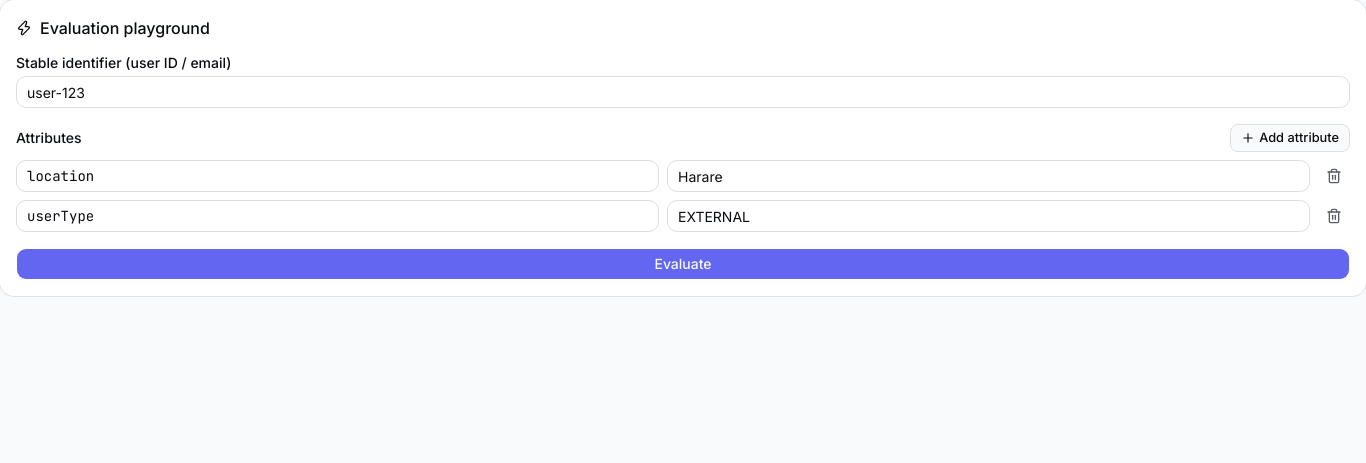
Test: EvaluationPlayground › shows the unmatched targeting rule when a rule excludes the user
Step 1. Click the button "Evaluate" → coordinates (683, 264), box [16,248,1350,280]
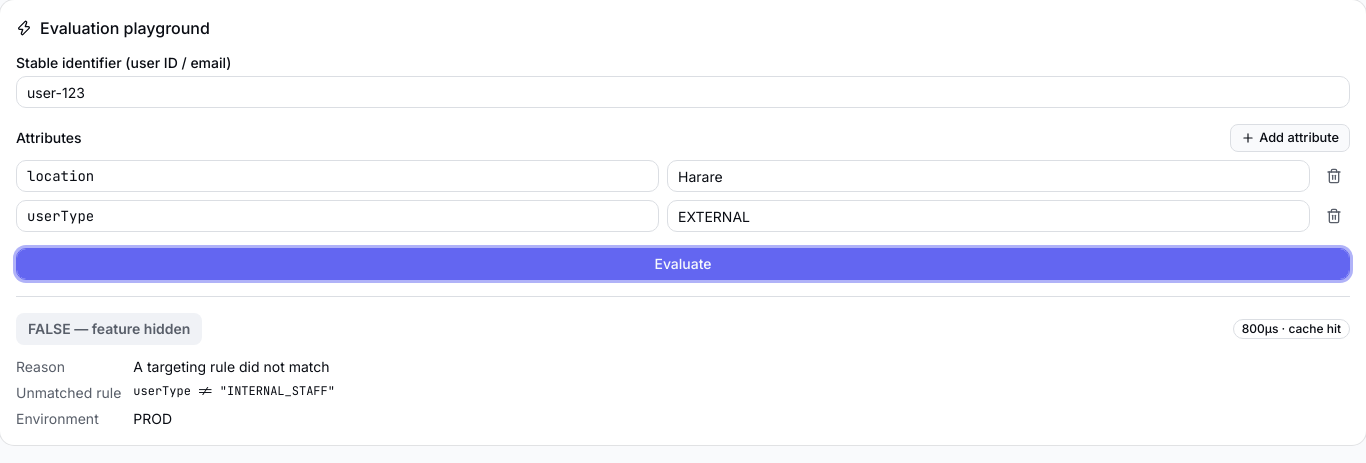
Check: the text "FALSE — feature hidden" is shown, box [16,313,202,345]
Check: the text "userType != \"INTERNAL_STAFF\"" is shown, box [133,383,335,399]
